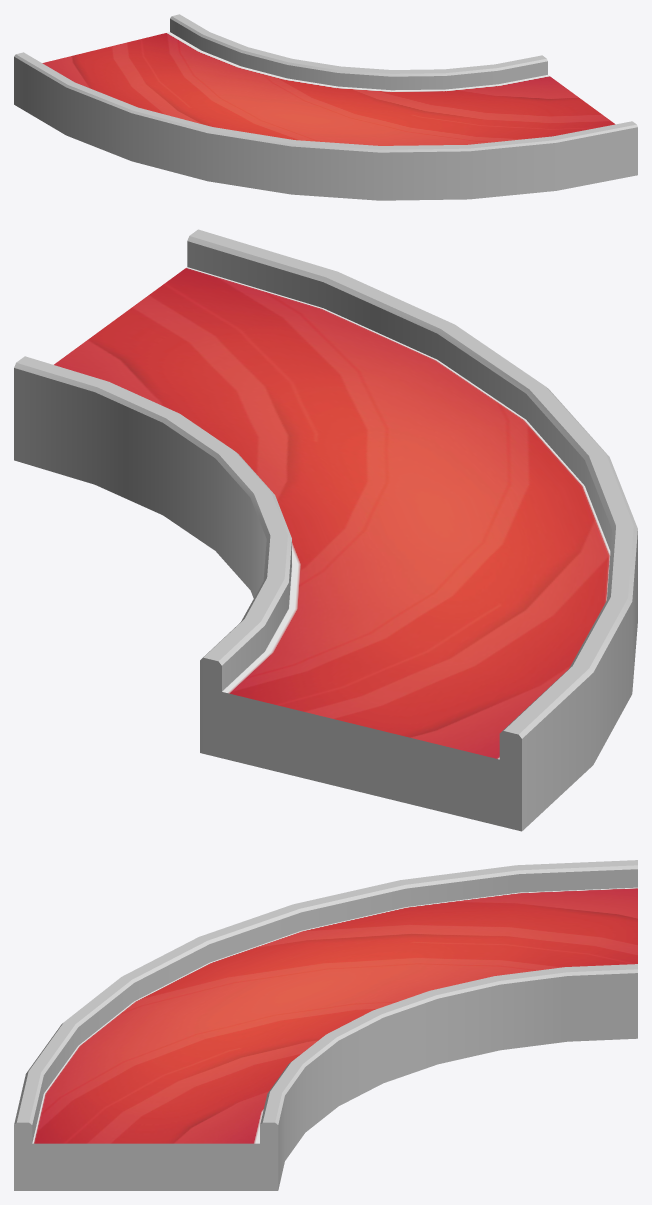
Rendered from PLF0110193.fbx.
3 views of the same model, one above another, from view 1: azimuth 30°, elevation 25°; view 2: azimuth 150°, elevation 25°; view 3: azimuth 270°, elevation 25° (orthographic). The views are drawn at different scales.
Parts seen in each view (by area): view 1: smPLF0110193; view 2: smPLF0110193; view 3: smPLF0110193.
Part boxes in pixels (bbox=[...]): smPLF0110193: bbox=[14, 14, 637, 200]; smPLF0110193: bbox=[14, 229, 637, 831]; smPLF0110193: bbox=[14, 860, 637, 1190].
Size of the model in its own units: 310 by 37.36 by 309.
1 material, 1 textured.
